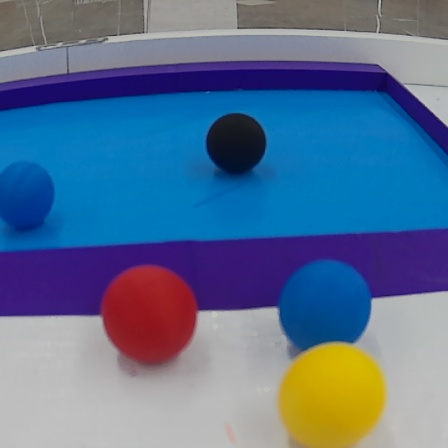black: (200, 108, 273, 183)
blue: (281, 256, 383, 348), (0, 161, 58, 227)
blue_aim: (2, 61, 448, 315)
red: (101, 265, 201, 370)
yellow: (279, 339, 387, 448)
